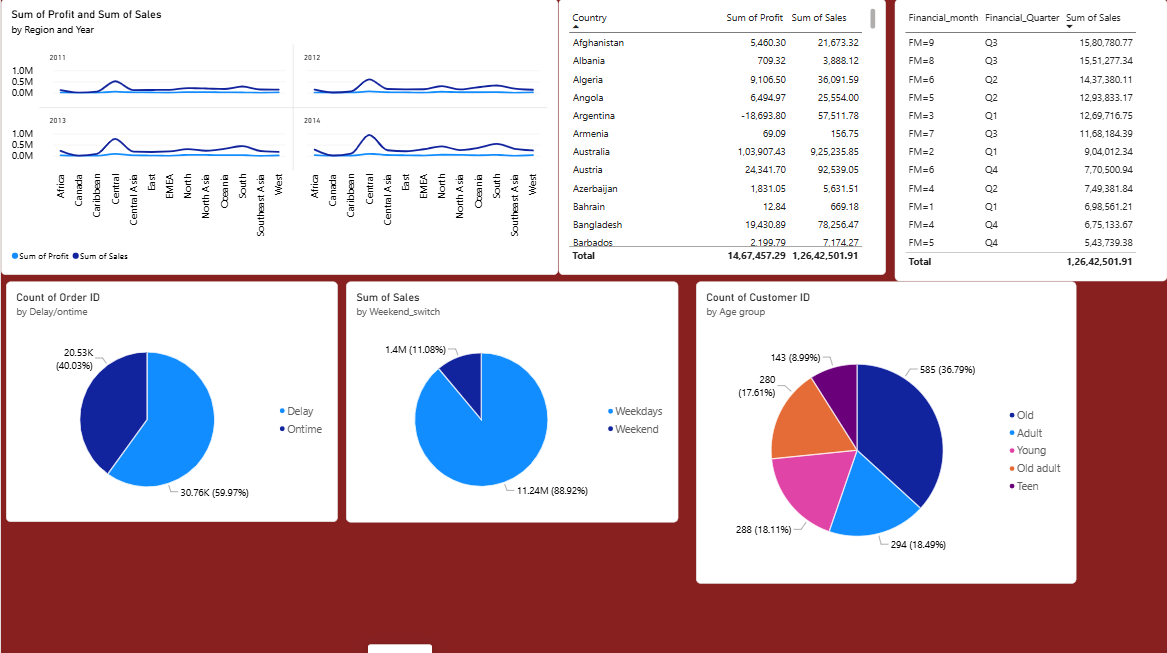

Layout of this report page (visuals, bound fields, positions):
{"tool":"powerbi","page":{"name":"Page 3","canvas":[1920,1080],"ordinal":2},"visuals":[{"type":"lineChart","fields":{"Category":["Sheet1.Region"],"Rows":["Sheet1.Year"],"Y":["Sum(Sheet1.Profit)","Sum(Sheet1.Sales)"]},"box":[0,0,917.5,454.2],"z":0},{"type":"tableEx","fields":{"Values":["Sheet1.Country","Sum(Sheet1.Profit)","Sum(Sheet1.Sales)"]},"box":[917.5,0,539.3,454.2],"z":1},{"type":"pieChart","fields":{"Category":["Sheet1.Delay/ontime"],"Y":["CountNonNull(Sheet1.Order ID)"]},"box":[7.2,465.1,546.5,396.3],"z":2},{"type":"pieChart","fields":{"Category":["Sheet1.Weekend_switch"],"Y":["Sum(Sheet1.Sales)"]},"box":[568.2,465.1,547,397],"z":3},{"type":"tableEx","fields":{"Values":["Sheet1.Financial_month","Sheet1.Financial_Quarter","Sum(Sheet1.Sales)"]},"box":[1471.3,0,448.8,465.1],"z":4},{"type":"pieChart","fields":{"Category":["Customer.Age group"],"Y":["CountNonNull(Customer.Customer ID)"]},"box":[1143.7,465.1,626.1,497.7],"z":5}]}

Visuals, with their boxes in screenshot pixels (x1, y1, x2, y2), scaled from the page's 1920x1080 canvas onto the 1167x653 screenshot:
lineChart - Sheet1.Region x Sheet1.Year: <box>0,0,558,275</box>
tableEx - Sheet1.Country x Sum(Sheet1.Profit): <box>558,0,885,275</box>
pieChart - Sheet1.Delay/ontime x CountNonNull(Sheet1.Order ID): <box>4,281,337,521</box>
pieChart - Sheet1.Weekend_switch x Sum(Sheet1.Sales): <box>345,281,678,521</box>
tableEx - Sheet1.Financial_month x Sheet1.Financial_Quarter: <box>894,0,1166,281</box>
pieChart - Customer.Age group x CountNonNull(Customer.Customer ID): <box>695,281,1076,582</box>
